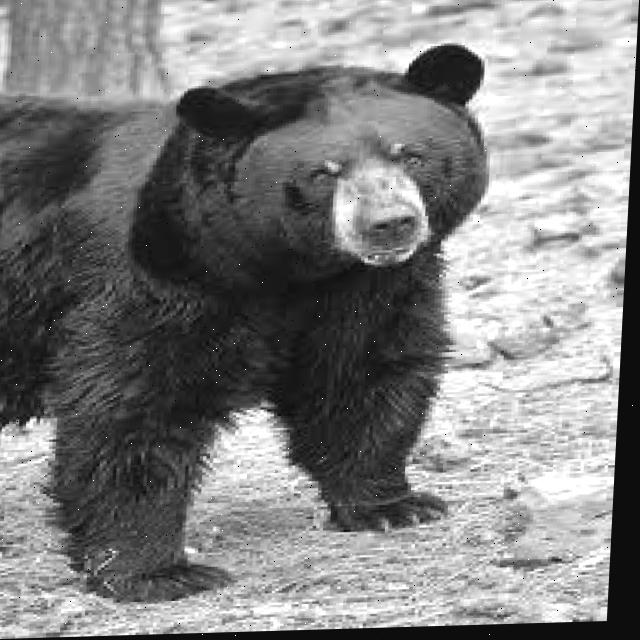Bear: (0, 49, 541, 569)
